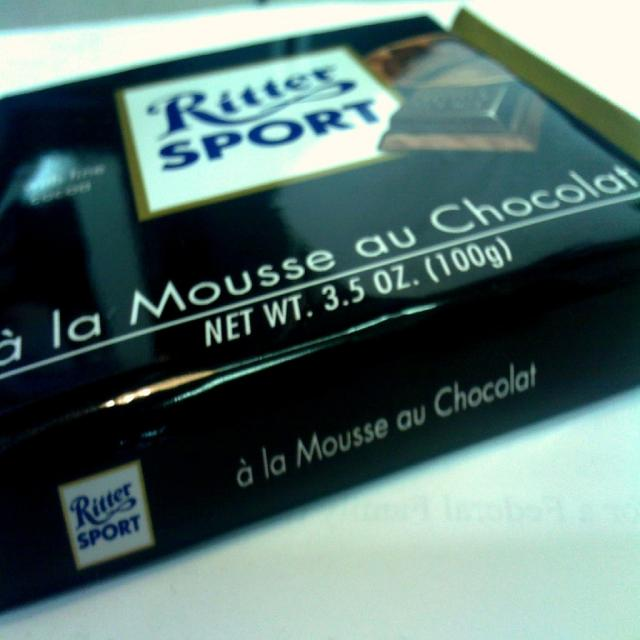rittersport: (120, 41, 428, 220), (56, 465, 153, 570)
